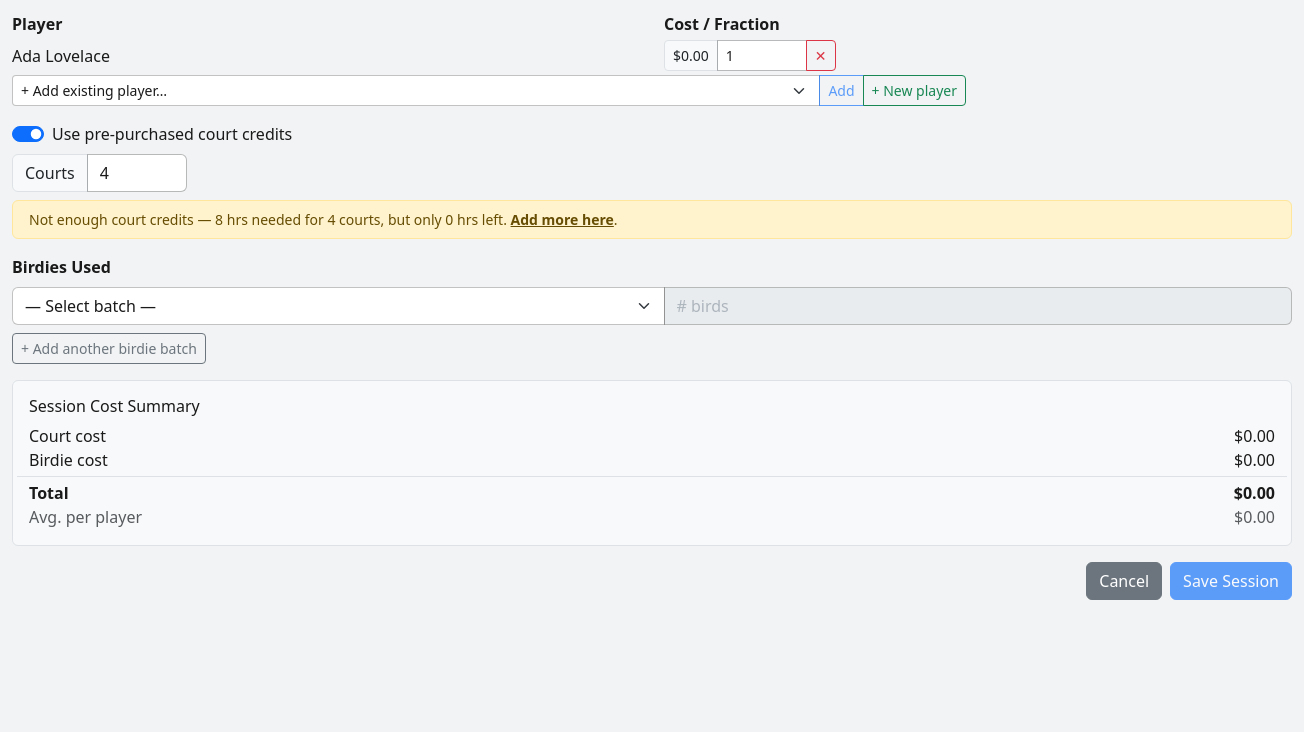
Test case: SessionDetailsStep › keeps the over-allocation error visible instead of clearing it immediately
The image size is (1304, 732).
# The birdie batch select comes after the "+ Add existing player…" combobox.
Select "Yonex AS-50 (2026-01-01, $30.00/tube, 3 birds left)" in the 2nd dropdown at x=338, y=306, box [12,287,664,325]
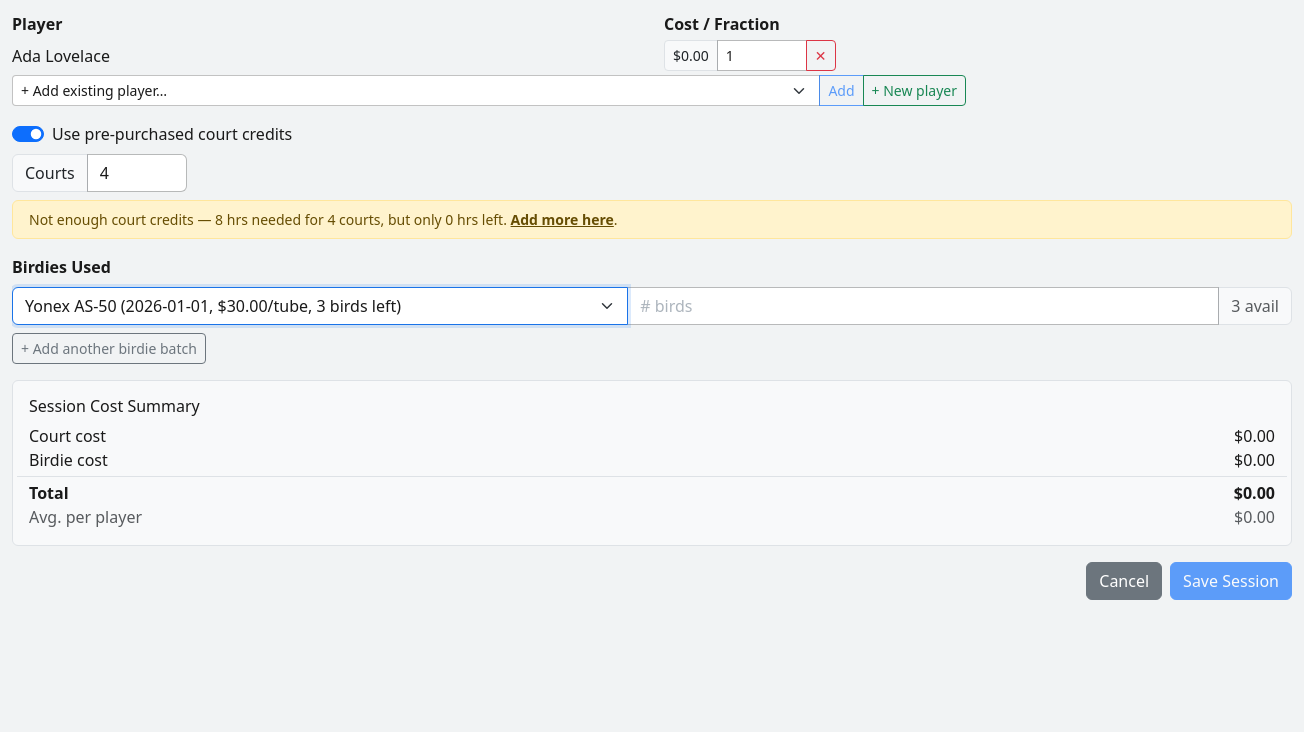
Type "5" into the number field with placeholder "# birds".
click(923, 306); type("5")  # box [627,287,1219,325]
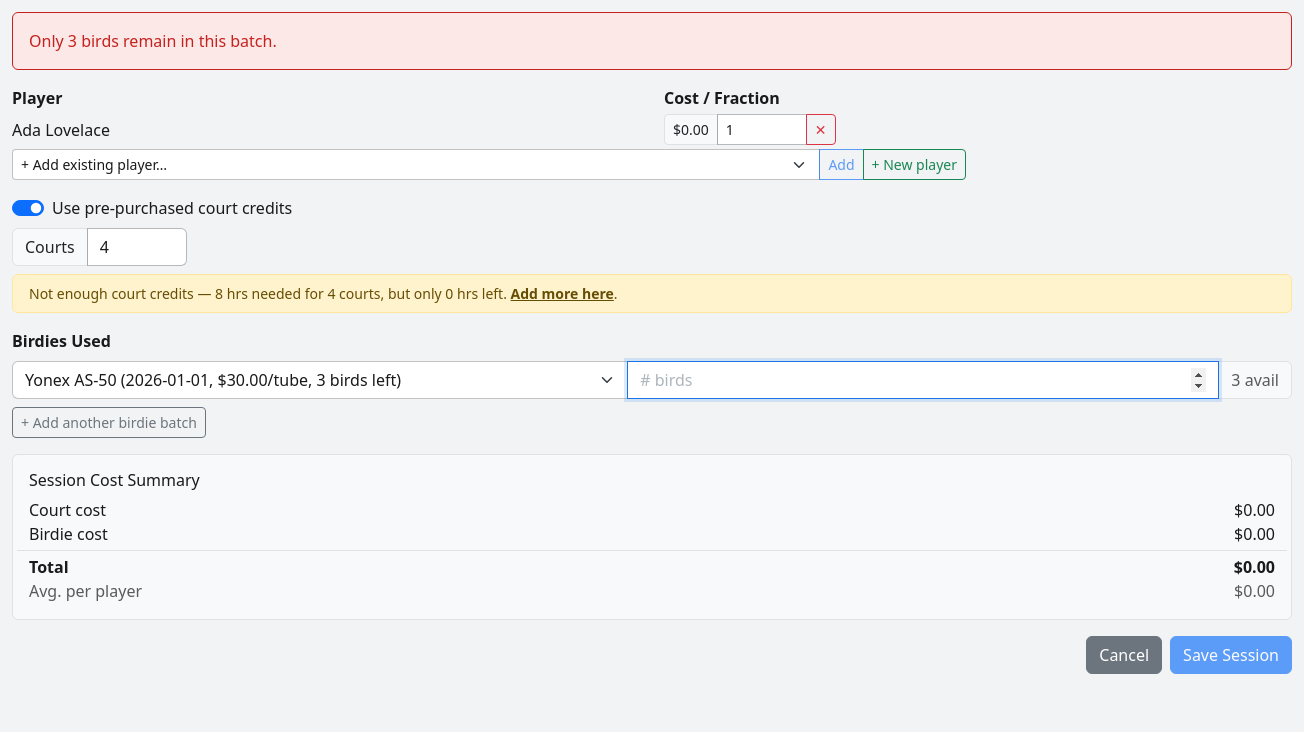
Expected: the text "Only 3 birds remain in this batch." is shown, [12,12,1292,70]
